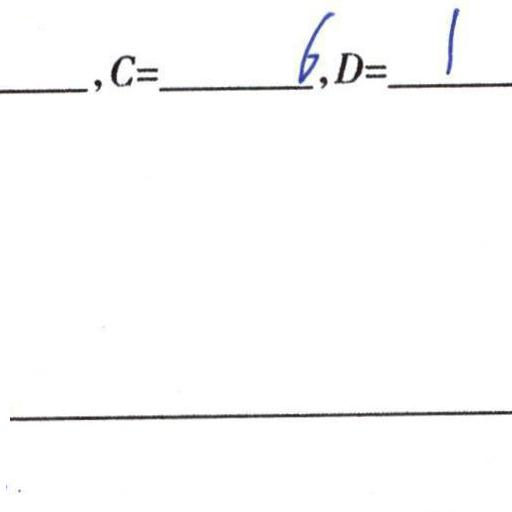ans: (296, 10, 336, 84), (438, 0, 463, 76)
